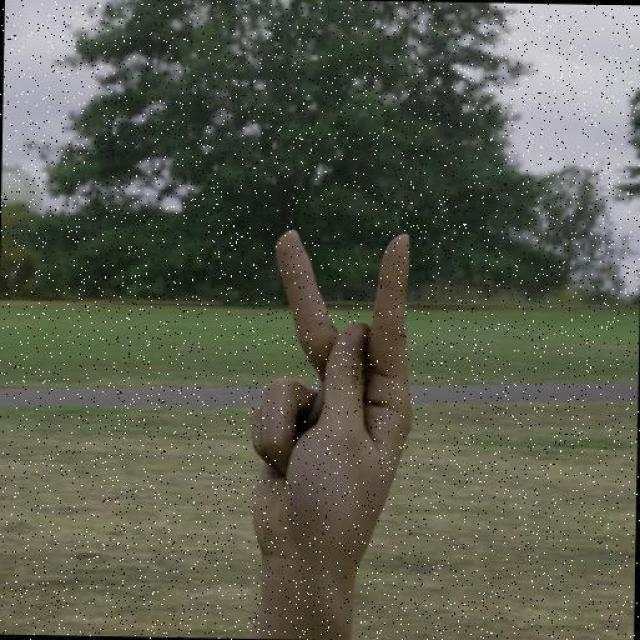K: (224, 214, 423, 611)
